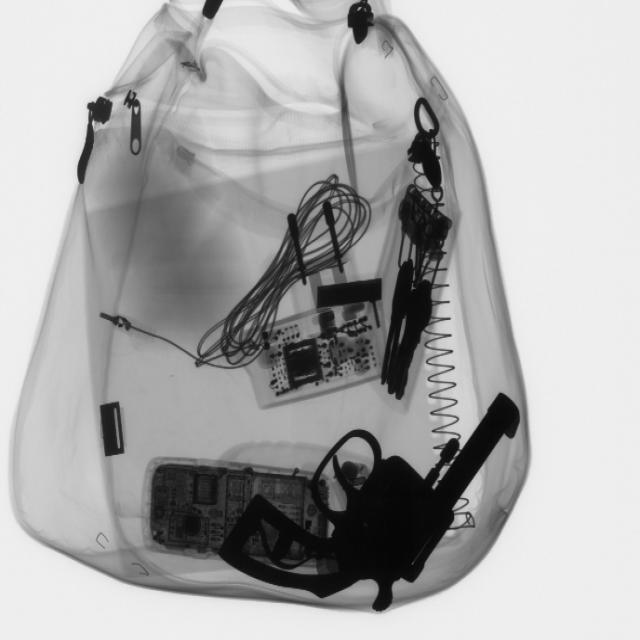GUN: (223, 383, 527, 614)
